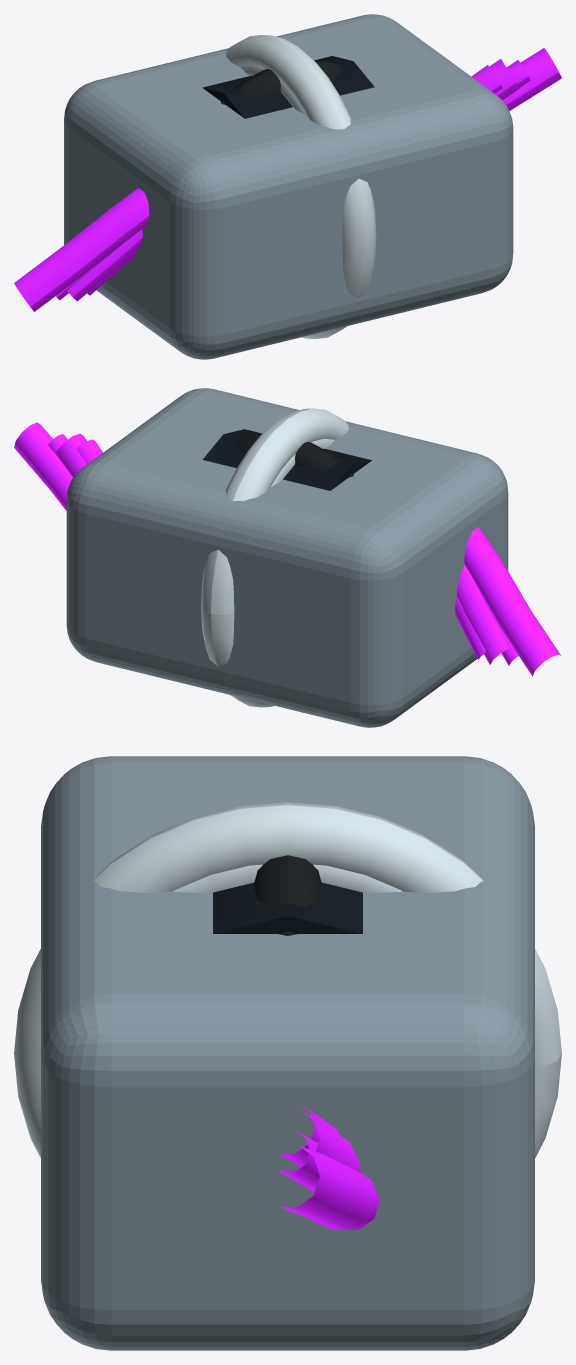
The model's file is electrical_22.glb.
3 views of the same model, one above another, from view 1: azimuth 30°, elevation 25°; view 2: azimuth 150°, elevation 25°; view 3: azimuth 270°, elevation 25° (orthographic). The views are drawn at different scales.
Visible parts, largest first — view 1: asset_mesh__electrical_1124__reference_body, asset_mesh__electrical_1123__functional_ring, asset_mesh__electrical_1115__current_path, asset_mesh__electrical_1123__rotor, asset_mesh__electrical_1139__current_path, asset_mesh__electrical_1138__service_element, asset_mesh__electrical_1129__current_path, asset_mesh__electrical_1140__current_path; view 2: asset_mesh__electrical_1124__reference_body, asset_mesh__electrical_1123__functional_ring, asset_mesh__electrical_1115__current_path, asset_mesh__electrical_1139__current_path, asset_mesh__electrical_1123__rotor, asset_mesh__electrical_1138__service_element, asset_mesh__electrical_1129__current_path, asset_mesh__electrical_1140__current_path; view 3: asset_mesh__electrical_1124__reference_body, asset_mesh__electrical_1123__functional_ring, asset_mesh__electrical_1123__rotor, asset_mesh__electrical_1115__current_path, asset_mesh__electrical_1138__service_element, asset_mesh__electrical_1121__functional_ring, asset_mesh__electrical_1139__current_path, asset_mesh__electrical_1140__current_path.
Part boxes in pixels (left/top/right/bottom): asset_mesh__electrical_1124__reference_body: left=64, top=14, right=513, bottom=359; asset_mesh__electrical_1123__functional_ring: left=226, top=35, right=376, bottom=338; asset_mesh__electrical_1115__current_path: left=14, top=48, right=561, bottom=311; asset_mesh__electrical_1123__rotor: left=202, top=56, right=374, bottom=118; asset_mesh__electrical_1139__current_path: left=67, top=59, right=519, bottom=301; asset_mesh__electrical_1138__service_element: left=221, top=60, right=343, bottom=104; asset_mesh__electrical_1129__current_path: left=87, top=65, right=502, bottom=295; asset_mesh__electrical_1140__current_path: left=56, top=60, right=530, bottom=300; asset_mesh__electrical_1124__reference_body: left=66, top=388, right=508, bottom=727; asset_mesh__electrical_1123__functional_ring: left=201, top=408, right=348, bottom=707; asset_mesh__electrical_1115__current_path: left=14, top=422, right=560, bottom=675; asset_mesh__electrical_1139__current_path: left=56, top=433, right=509, bottom=664; asset_mesh__electrical_1123__rotor: left=202, top=429, right=371, bottom=490; asset_mesh__electrical_1138__service_element: left=233, top=434, right=353, bottom=477; asset_mesh__electrical_1129__current_path: left=76, top=439, right=486, bottom=659; asset_mesh__electrical_1140__current_path: left=48, top=434, right=518, bottom=665; asset_mesh__electrical_1124__reference_body: left=41, top=756, right=534, bottom=1350; asset_mesh__electrical_1123__functional_ring: left=14, top=802, right=561, bottom=1157; asset_mesh__electrical_1123__rotor: left=213, top=882, right=362, bottom=933; asset_mesh__electrical_1115__current_path: left=278, top=1145, right=379, bottom=1229; asset_mesh__electrical_1138__service_element: left=254, top=855, right=321, bottom=935; asset_mesh__electrical_1121__functional_ring: left=173, top=864, right=402, bottom=892; asset_mesh__electrical_1139__current_path: left=278, top=1109, right=360, bottom=1192; asset_mesh__electrical_1140__current_path: left=281, top=1131, right=319, bottom=1190.
Bounding box in the file's own units: 1.73 × 0.8573 × 0.8573.
